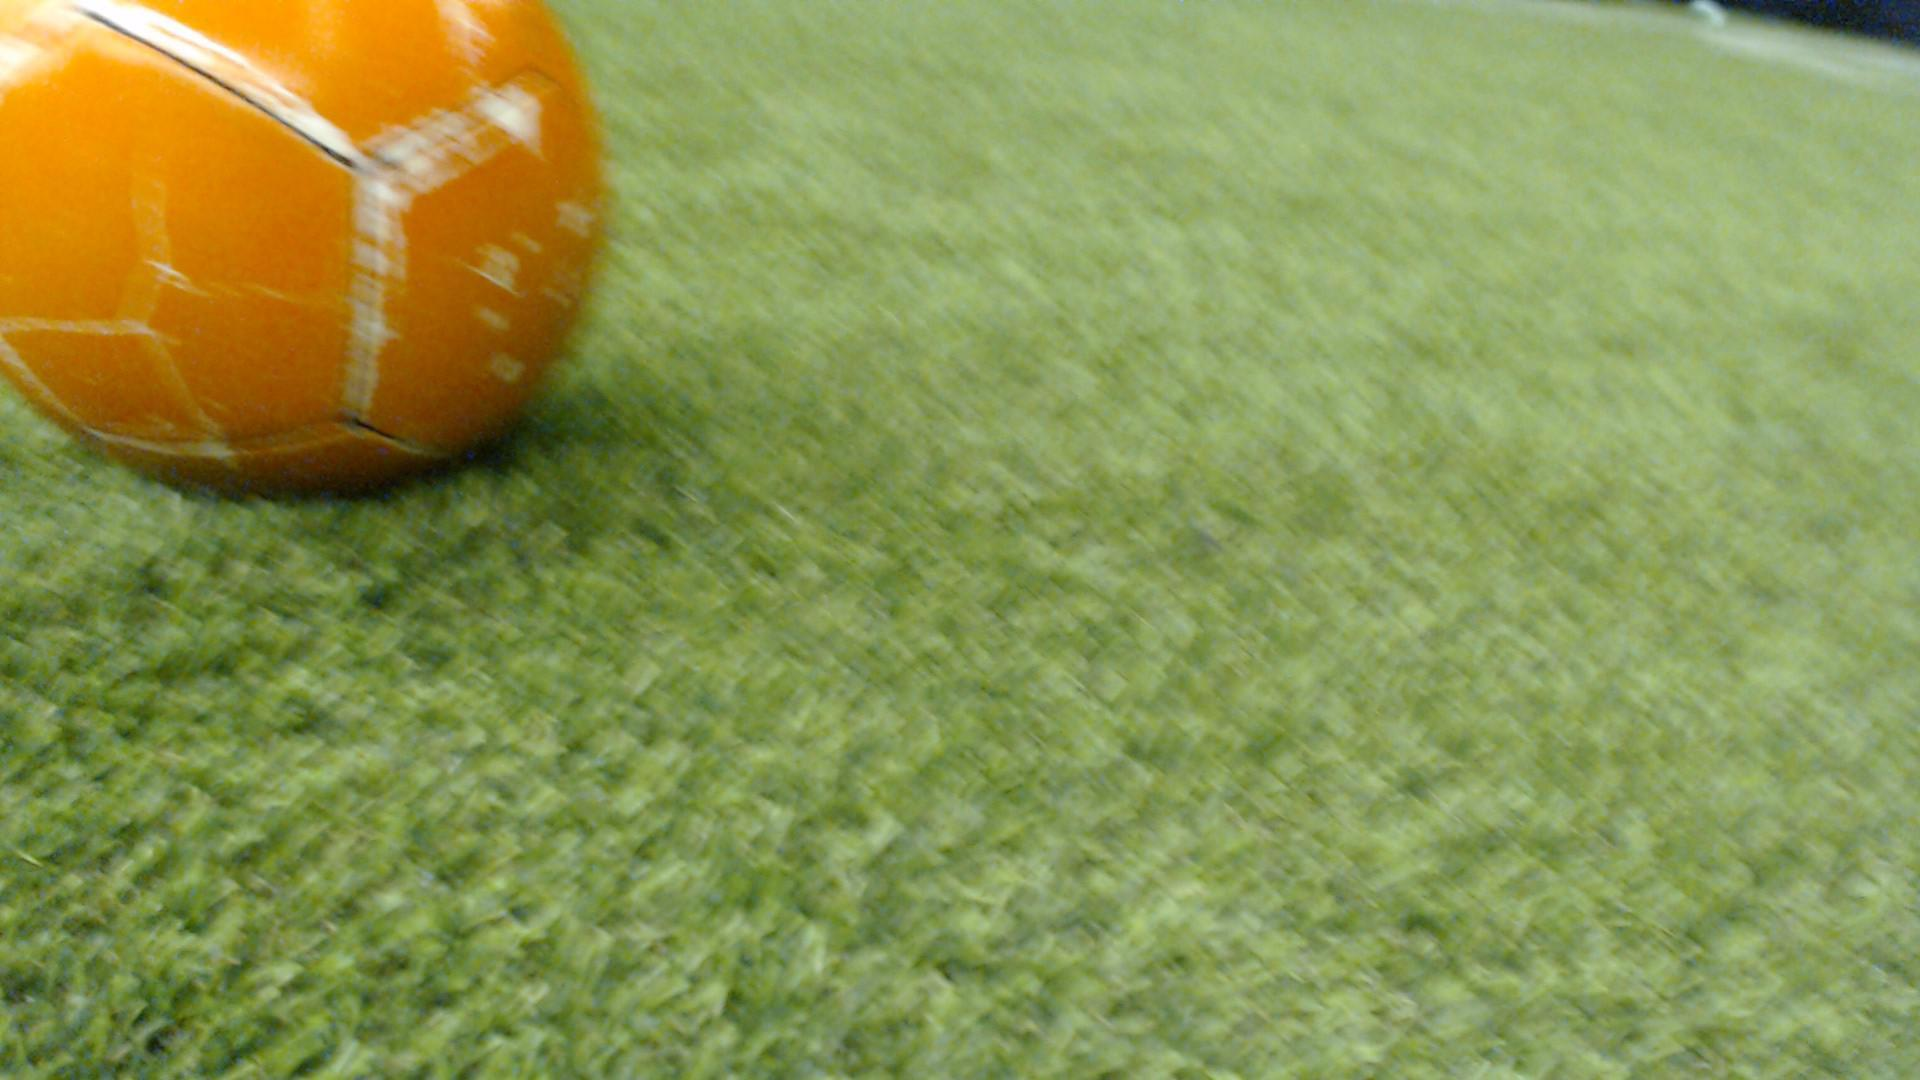bola: (0, 0, 636, 526)
